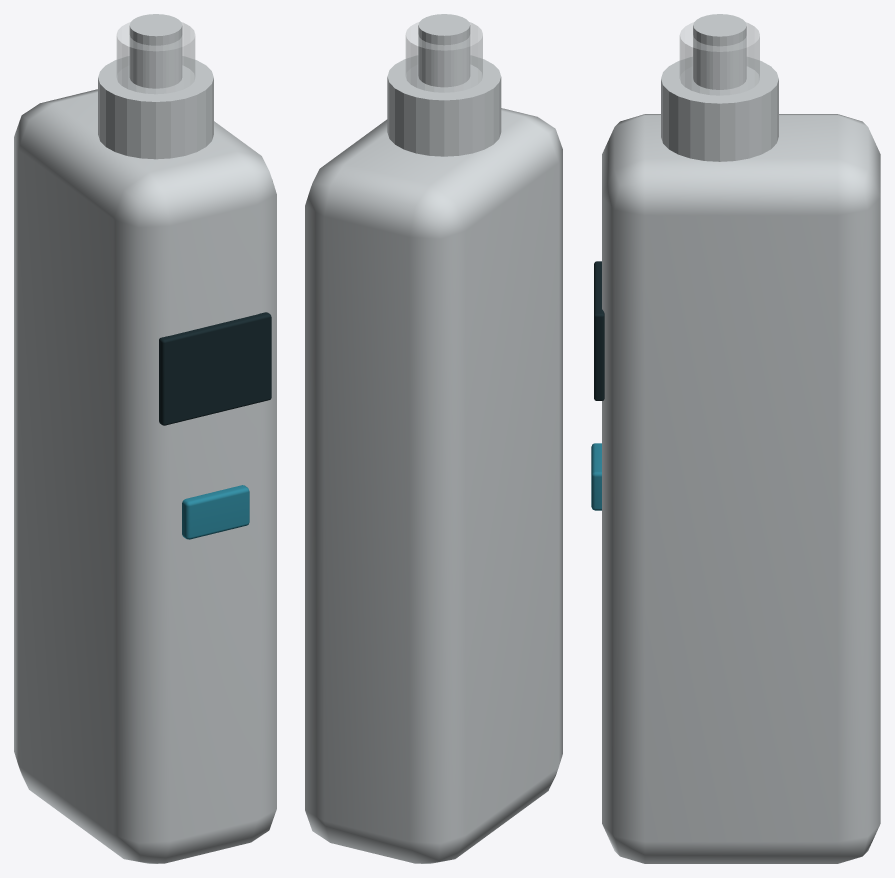
The model's file is tympanic_thermometer.fbx.
The picture shows the model from 3 angles, left to right: view 1: azimuth 30°, elevation 25°; view 2: azimuth 150°, elevation 25°; view 3: azimuth 270°, elevation 25°; orthographic projection. The views are drawn at different scales.
Visible parts, largest first — view 1: EQ_tympanic_thermometer_Body, EQ_tympanic_thermometer_Display, EQ_tympanic_thermometer_ProbeBase, EQ_tympanic_thermometer_ProbeCover, EQ_tympanic_thermometer_ProbeTip, EQ_tympanic_thermometer_Button; view 2: EQ_tympanic_thermometer_Body, EQ_tympanic_thermometer_ProbeBase, EQ_tympanic_thermometer_ProbeCover, EQ_tympanic_thermometer_ProbeTip; view 3: EQ_tympanic_thermometer_Body, EQ_tympanic_thermometer_ProbeBase, EQ_tympanic_thermometer_ProbeCover, EQ_tympanic_thermometer_ProbeTip, EQ_tympanic_thermometer_Display, EQ_tympanic_thermometer_Button.
Boxes of the visible parts, bbox=[...] form: EQ_tympanic_thermometer_Body: bbox=[14, 89, 276, 863]; EQ_tympanic_thermometer_Display: bbox=[159, 312, 271, 425]; EQ_tympanic_thermometer_ProbeBase: bbox=[98, 56, 213, 159]; EQ_tympanic_thermometer_ProbeCover: bbox=[116, 22, 195, 93]; EQ_tympanic_thermometer_ProbeTip: bbox=[129, 14, 182, 88]; EQ_tympanic_thermometer_Button: bbox=[182, 485, 249, 539]; EQ_tympanic_thermometer_Body: bbox=[305, 108, 562, 863]; EQ_tympanic_thermometer_ProbeBase: bbox=[387, 55, 501, 156]; EQ_tympanic_thermometer_ProbeCover: bbox=[405, 22, 482, 92]; EQ_tympanic_thermometer_ProbeTip: bbox=[418, 14, 470, 87]; EQ_tympanic_thermometer_Body: bbox=[602, 114, 880, 863]; EQ_tympanic_thermometer_ProbeBase: bbox=[661, 57, 778, 161]; EQ_tympanic_thermometer_ProbeCover: bbox=[679, 22, 759, 95]; EQ_tympanic_thermometer_ProbeTip: bbox=[693, 14, 746, 89]; EQ_tympanic_thermometer_Display: bbox=[594, 261, 604, 400]; EQ_tympanic_thermometer_Button: bbox=[591, 443, 601, 510].
Size of the model in its own units: 0.035 by 0.168 by 0.054.
